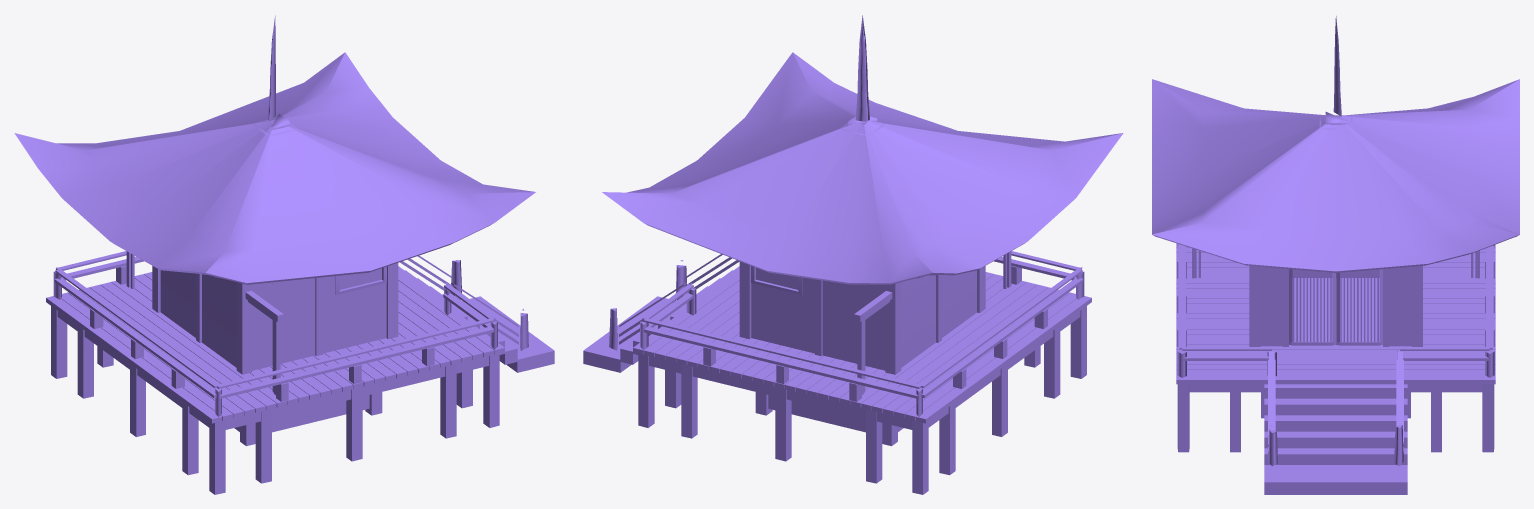
Rendered from temple_combineLOD2.fbx.
3 renders of one model, left to right at view 1: azimuth 30°, elevation 25°; view 2: azimuth 150°, elevation 25°; view 3: azimuth 270°, elevation 25°, orthographic. The views are drawn at different scales.
Visible parts, largest first — view 1: temple_combineLOD2; view 2: temple_combineLOD2; view 3: temple_combineLOD2.
Part boxes in pixels (box(x1,y1,x2,y2)): temple_combineLOD2: box(14, 15, 554, 494); temple_combineLOD2: box(583, 15, 1123, 494); temple_combineLOD2: box(1152, 16, 1519, 494).
Size of the model in its own units: 1082 by 981 by 878.
